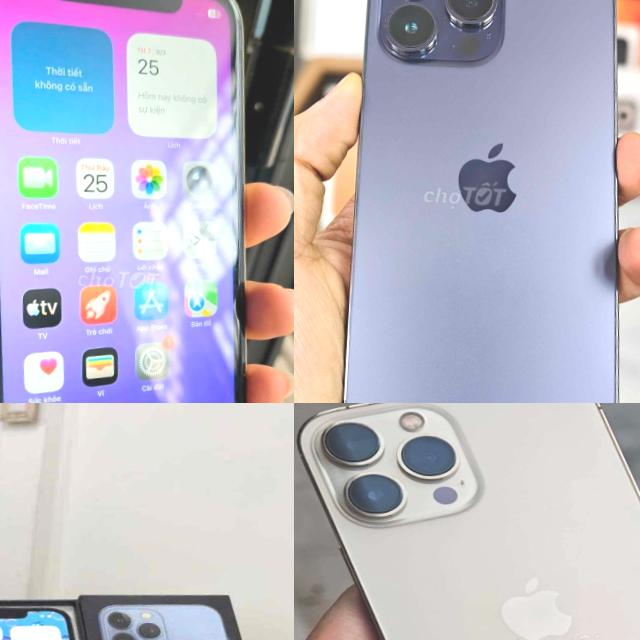gen_11: (0, 0, 276, 403)
gen_12_13: (294, 403, 640, 640)
gen_14: (333, 0, 640, 403)
